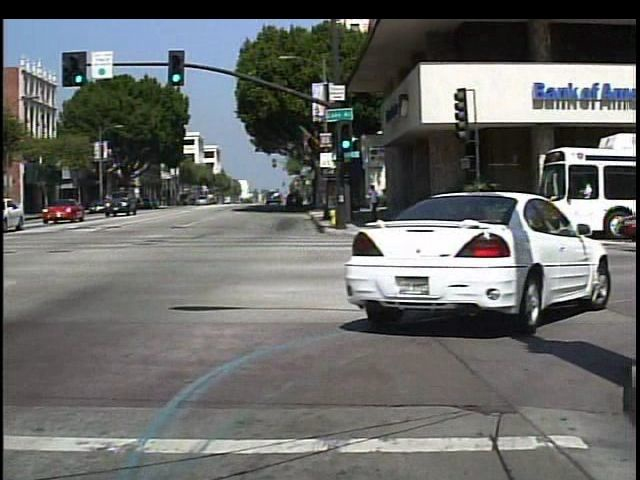person: (365, 182, 385, 223)
